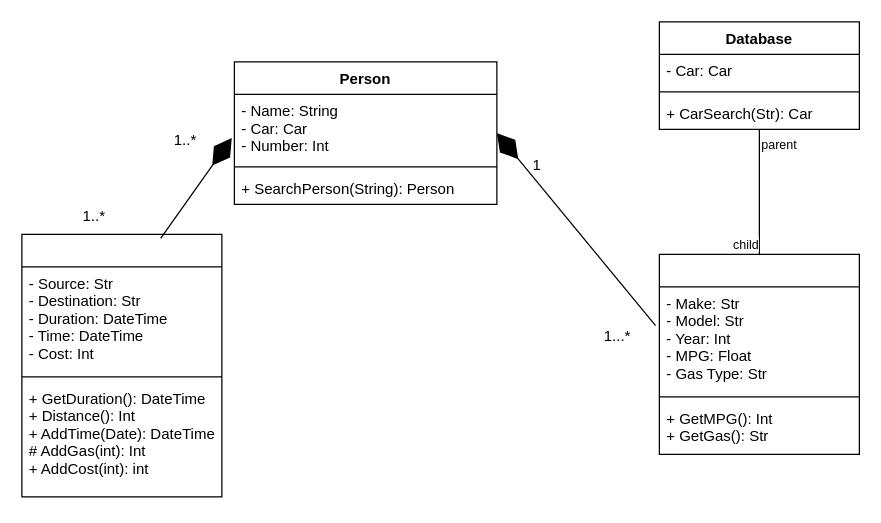
This 881x523 diagram has some shape labels left out. Here are the shapes that lost their labels. From the top down, the box of each, then its label:
(21, 233, 222, 497): Trip Details
(658, 253, 859, 454): Car
